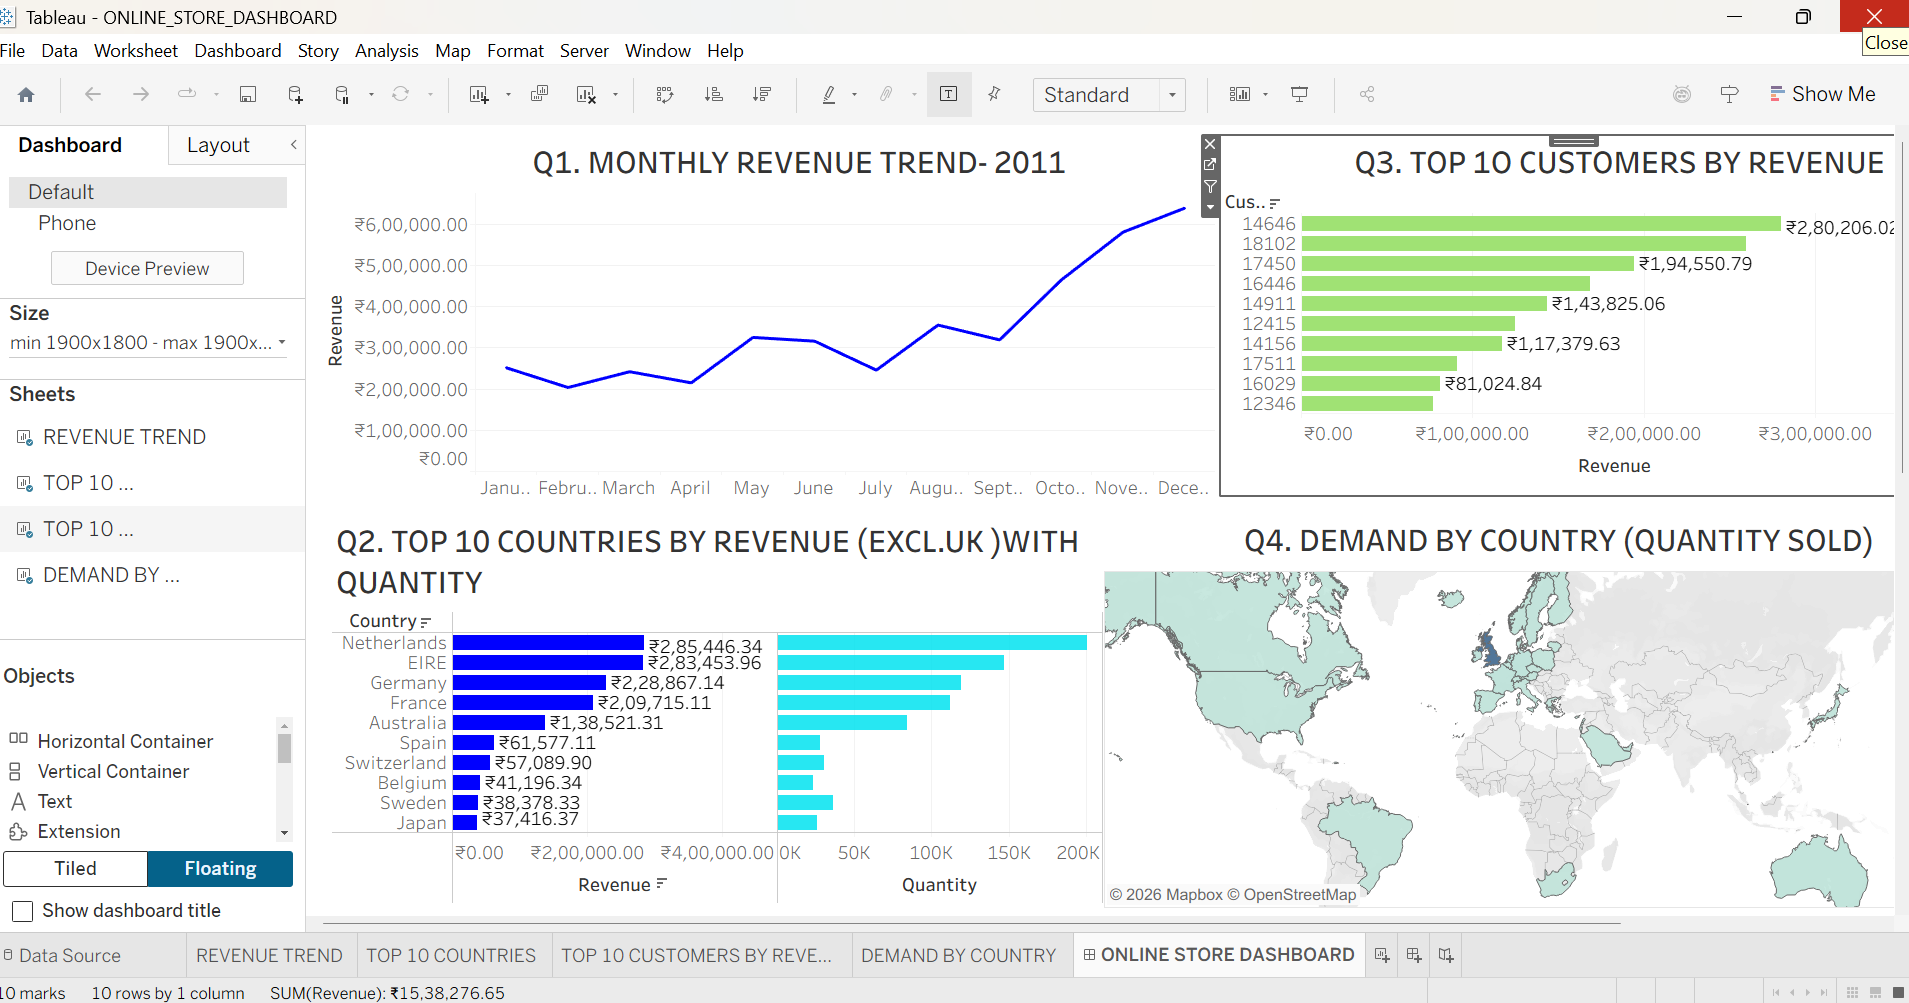

This screenshot's page, from the dashboard's own definition file:
{"tool":"tableau","page":{"name":"ONLINE STORE DASHBOARD","canvas":[1900,1800],"ordinal":0},"visuals":[{"type":"worksheet","title":"REVENUE TREND","mark":"Line","rows":["Revenue"],"cols":["InvoiceDate"],"box":[9,11,900,364]},{"type":"worksheet","title":"TOP 10 CUSTOMERS BY REVENUE","mark":"Automatic","rows":["CustomerID"],"cols":["Revenue"],"box":[915,11,707,359]},{"type":"worksheet","title":"DEMAND BY COUNTRY","mark":"Automatic","box":[798,389,837,394]},{"type":"worksheet","title":"TOP 10 COUNTRIES","mark":"Automatic","rows":["Country"],"cols":["Revenue","Quantity"],"box":[26,390,772,390]}]}

Visuals, with their boxes on the page's 1900x1800 design canvas (x1, y1, x2, y2). These are canvas units, not pixel positions in the 1909x1003 screenshot, which may show the page scaled, cropped or inside an application window:
"REVENUE TREND" worksheet (Line marks): [left=9, top=11, right=909, bottom=375]
"TOP 10 CUSTOMERS BY REVENUE" worksheet: [left=915, top=11, right=1622, bottom=370]
"DEMAND BY COUNTRY" worksheet: [left=798, top=389, right=1635, bottom=783]
"TOP 10 COUNTRIES" worksheet: [left=26, top=390, right=798, bottom=780]
